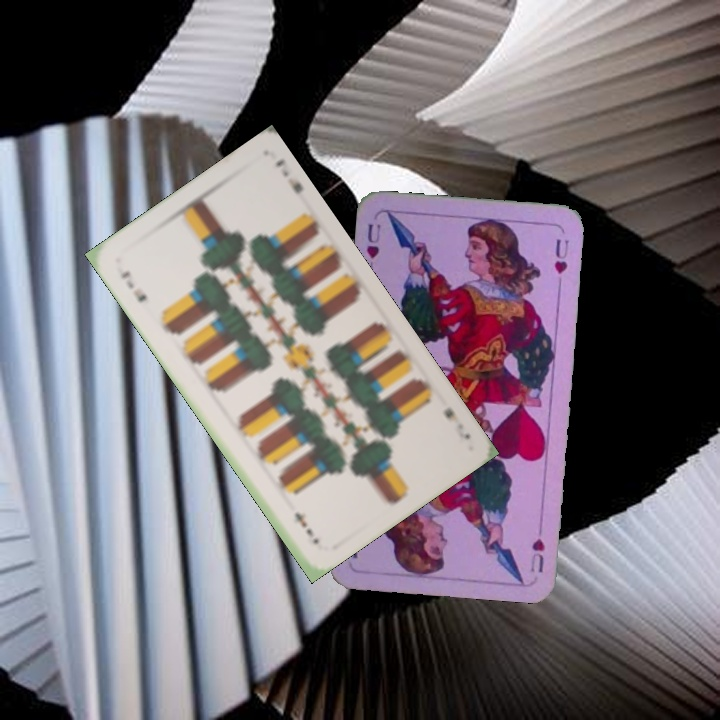E7: (439, 403, 473, 443), (116, 266, 150, 305)
HU: (526, 518, 547, 575), (362, 219, 383, 261)
